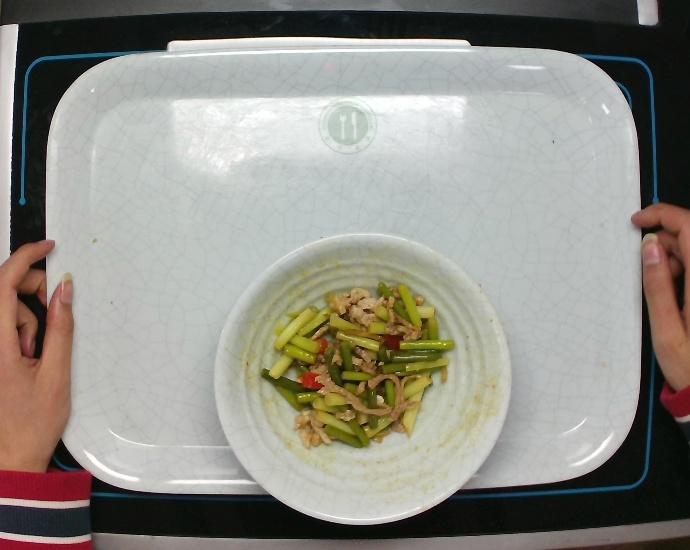JYsf-Xiao_Tang_Wan: (209, 228, 518, 528)
